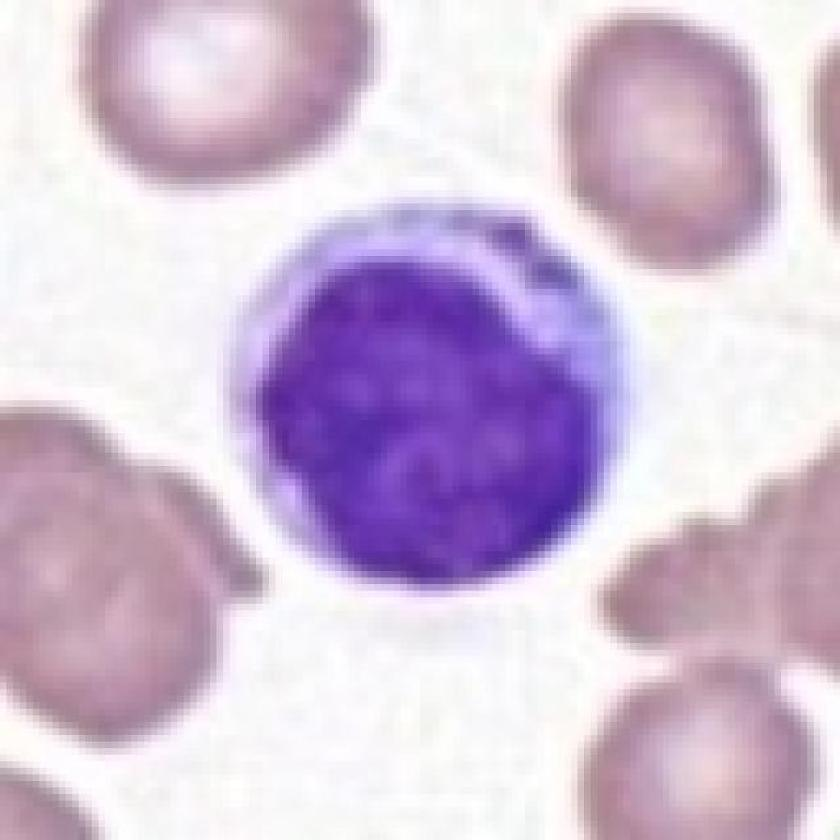lymphocyte: (218, 195, 643, 596)
